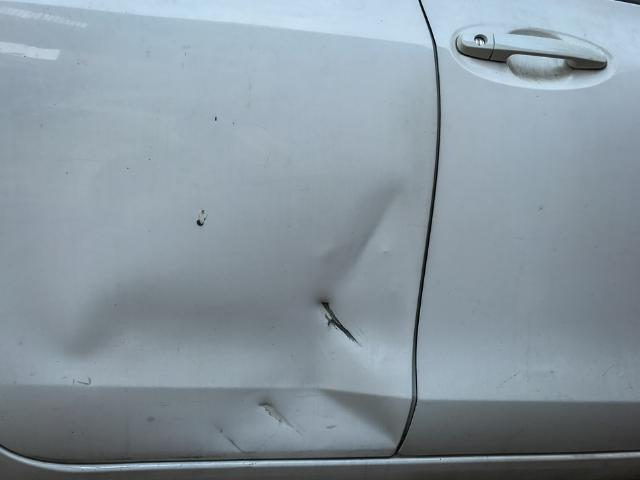Door: (29, 5, 401, 453)
